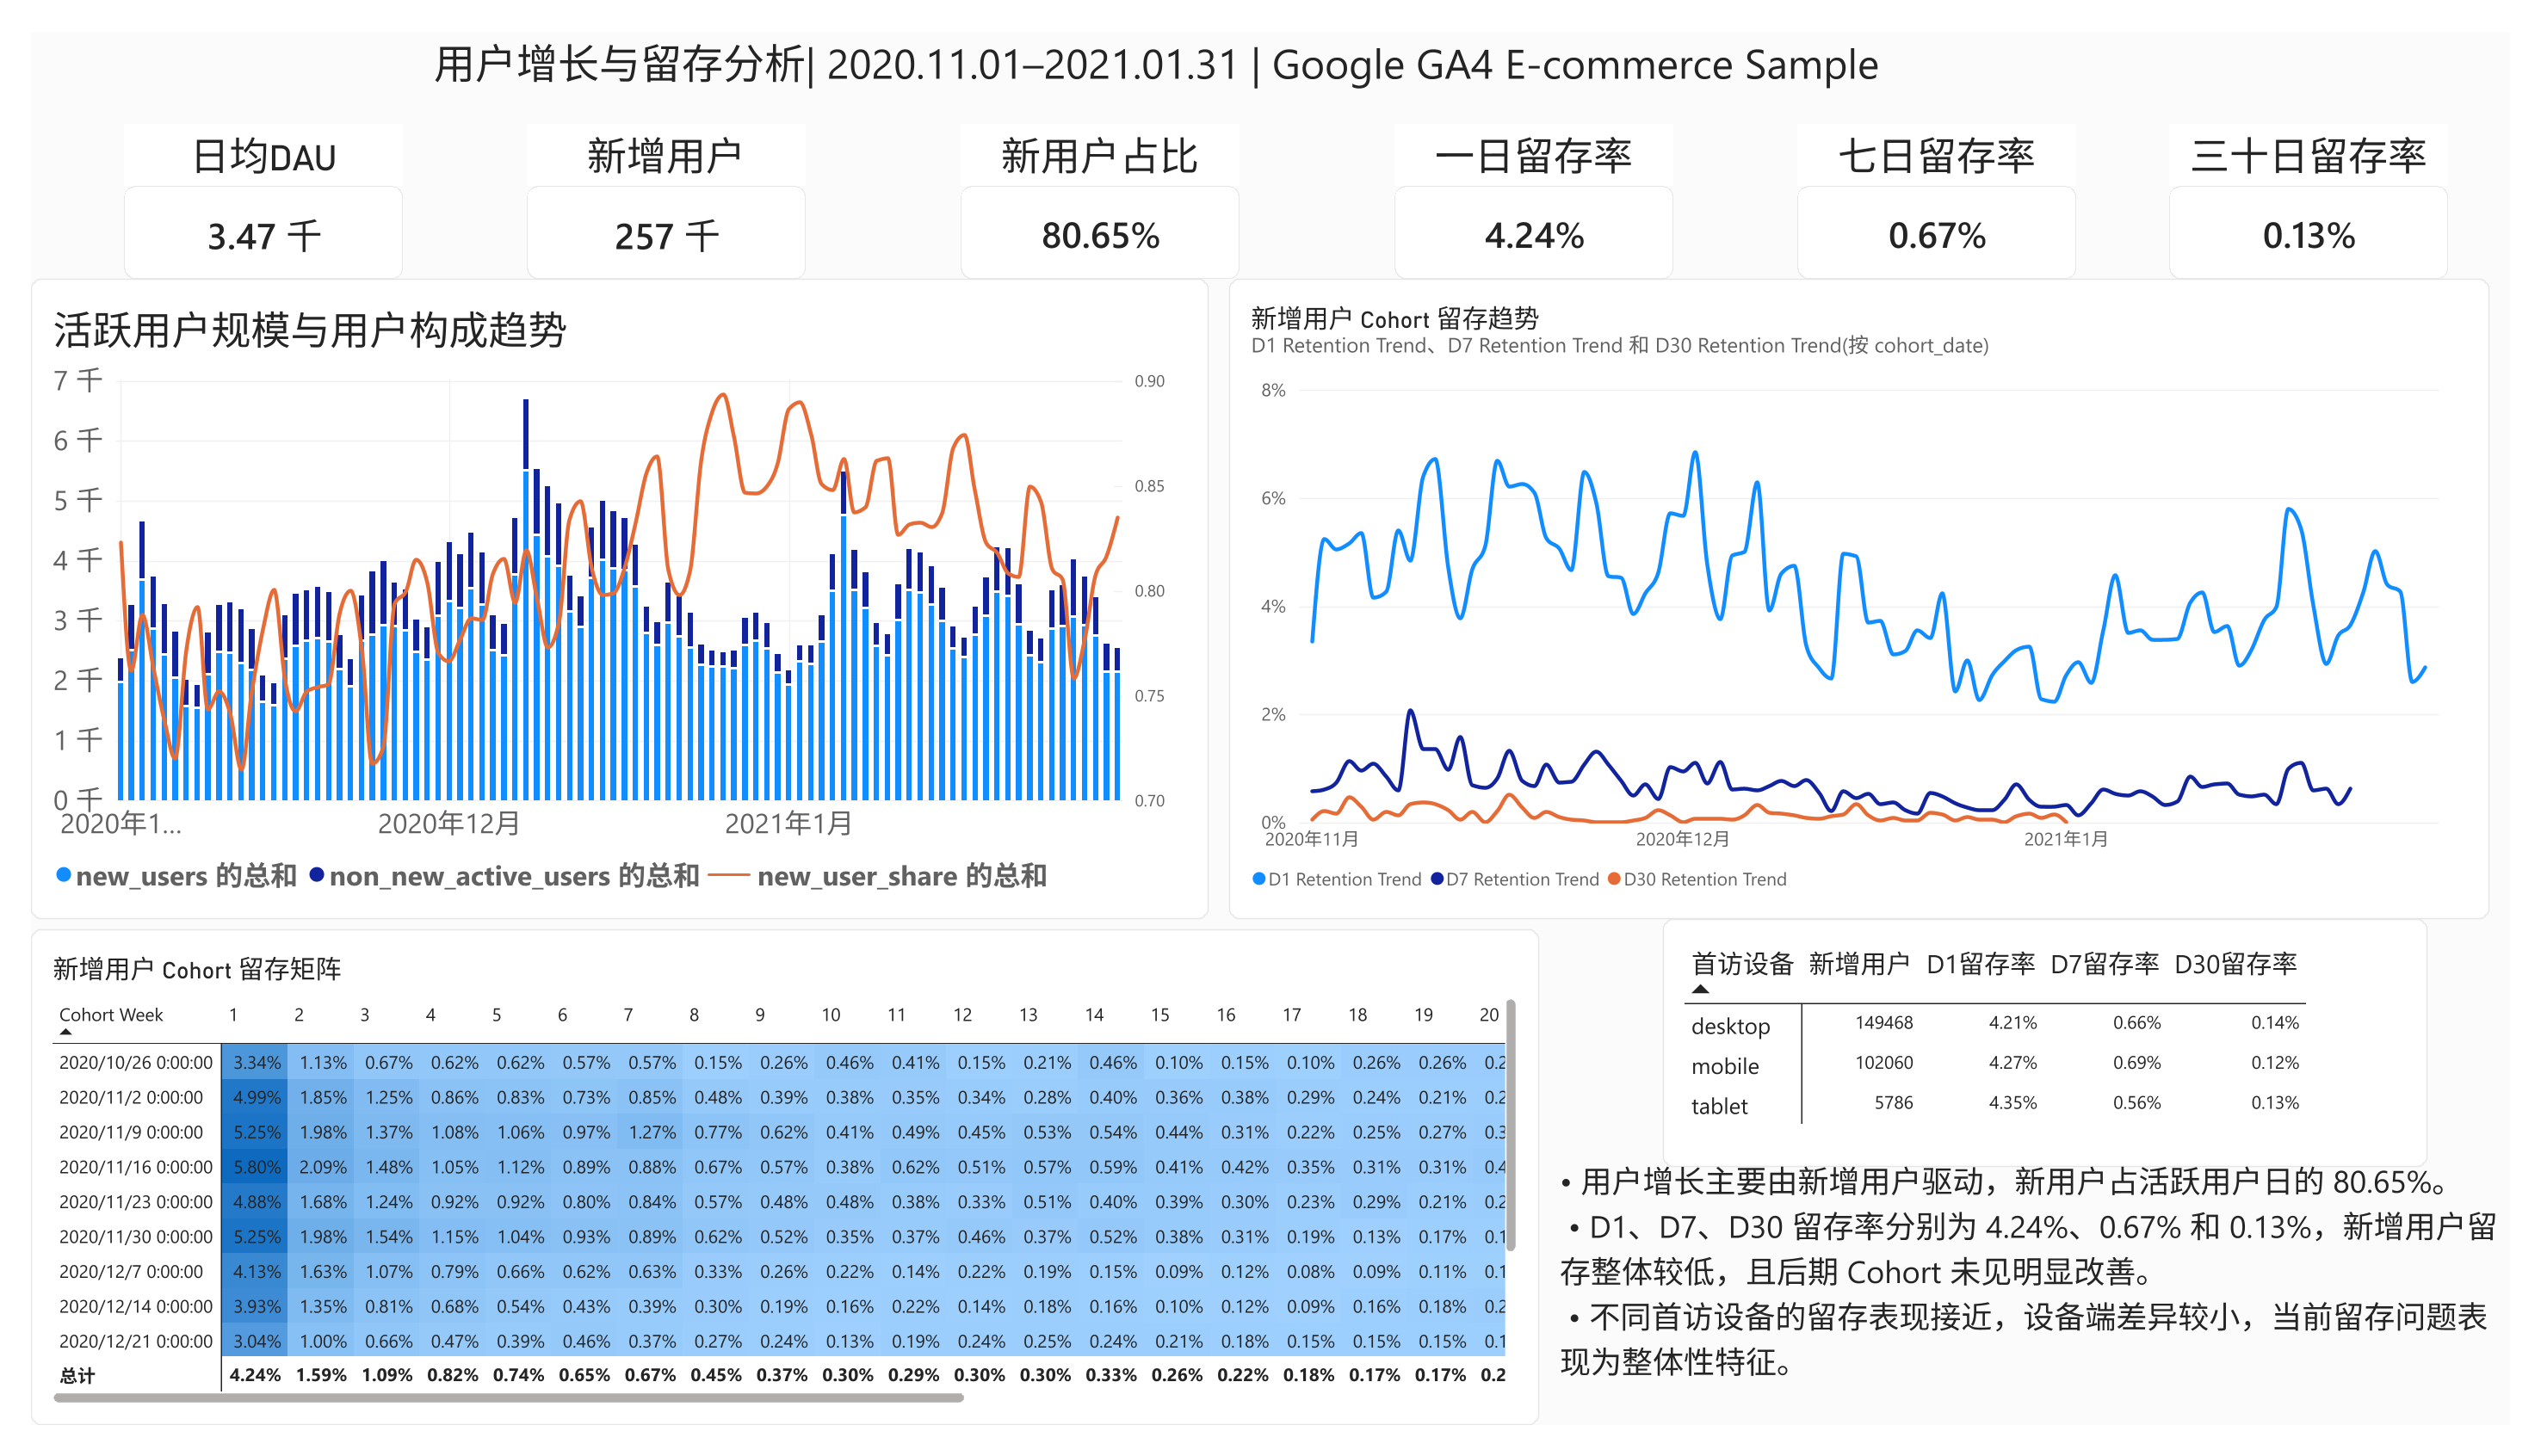

The page's visual inventory and layout, read from the dashboard file:
{"tool":"powerbi","page":{"name":"用户增长与留存分析","canvas":[1920,1080],"ordinal":0},"visuals":[{"type":"textbox","box":[312,0,1416,72],"z":0},{"type":"cardVisual","title":"日均DAU","fields":{"Data":["指标表.Avg DAU"]},"box":[72,72,216,120],"z":1000},{"type":"cardVisual","title":"新增用户","fields":{"Data":["指标表.New Users"]},"box":[384,72,216,120],"z":2000},{"type":"cardVisual","title":"新用户占比","fields":{"Data":["指标表.New User Share"]},"box":[720,72,216,120],"z":3000},{"type":"cardVisual","title":"一日留存率","fields":{"Data":["指标表.D1 Retention"]},"box":[1056,72,216,120],"z":4000},{"type":"cardVisual","title":"七日留存率","fields":{"Data":["指标表.D7 Retention"]},"box":[1368,72,216,120],"z":5000},{"type":"cardVisual","title":"三十日留存率","fields":{"Data":["指标表.D30 Retention"]},"box":[1656,72,216,120],"z":6000},{"type":"lineStackedColumnComboChart","title":"活跃用户规模与用户构成趋势","fields":{"Category":["01_daily_growth_summary.date"],"Y":["Sum(01_daily_growth_summary.new_users)","Sum(01_daily_growth_summary.non_new_active_users)"],"Y2":["Sum(01_daily_growth_summary.new_user_share)"]},"box":[0,192,912,496],"z":7000},{"type":"lineChart","title":"新增用户 Cohort 留存趋势","fields":{"Category":["02_retention_summary.cohort_date"],"Y":["指标表.D1 Retention Trend","指标表.D7 Retention Trend","指标表.D30 Retention Trend"]},"box":[928,192,976,496],"z":8000},{"type":"pivotTable","title":"新增用户 Cohort 留存矩阵 ","fields":{"Columns":["03_retention_cohort.day_number"],"Rows":["03_retention_cohort.Cohort Week"],"Values":["指标表.Cohort Retention"]},"box":[0,696,1248,384],"z":9000},{"type":"pivotTable","fields":{"Rows":["04_device_retention_summary.device_category"],"Values":["Sum(04_device_retention_summary.new_users)","Sum(04_device_retention_summary.d1_retention_rate)","Sum(04_device_retention_summary.d7_retention_rate)","Sum(04_device_retention_summary.d30_retention_rate)"]},"box":[1376,688,384,160],"z":10000},{"type":"textbox","box":[1248,840,672,240],"z":10001}]}

Visuals, with their boxes in screenshot pixels (x1, y1, x2, y2), scaled from the page's 1920x1080 canvas onto the 2541x1456 screenshot:
textbox: <region>413, 0, 2287, 97</region>
"日均DAU" cardVisual: <region>96, 97, 381, 259</region>
"新增用户" cardVisual: <region>508, 97, 794, 259</region>
"新用户占比" cardVisual: <region>953, 97, 1239, 259</region>
"一日留存率" cardVisual: <region>1398, 97, 1684, 259</region>
"七日留存率" cardVisual: <region>1810, 97, 2096, 259</region>
"三十日留存率" cardVisual: <region>2192, 97, 2477, 259</region>
"活跃用户规模与用户构成趋势" lineStackedColumnComboChart: <region>0, 259, 1207, 928</region>
"新增用户 Cohort 留存趋势" lineChart: <region>1228, 259, 2519, 928</region>
"新增用户 Cohort 留存矩阵 " pivotTable: <region>0, 938, 1652, 1455</region>
pivotTable - 04_device_retention_summary.device_category x Sum(04_device_retention_summary.new_users): <region>1821, 928, 2329, 1144</region>
textbox: <region>1652, 1132, 2540, 1455</region>
